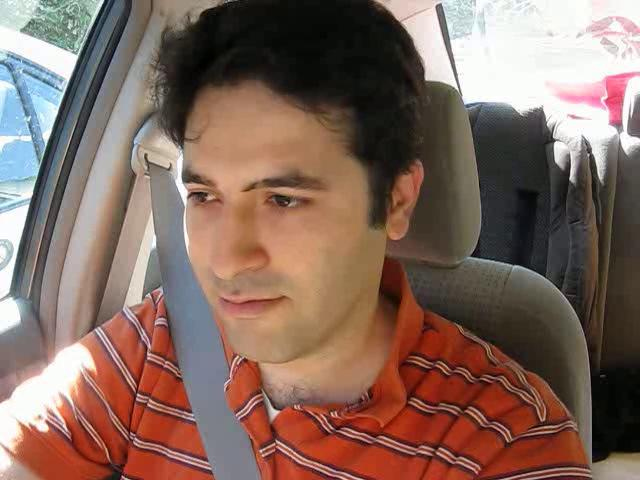no_yawn: (192, 272, 305, 334)
open_eyeL: (176, 176, 231, 217)
open_eyeR: (250, 176, 332, 223)
